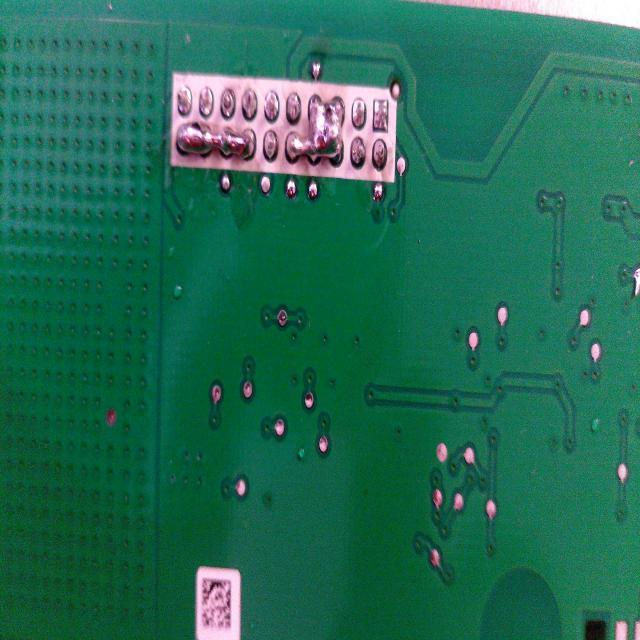Soldering shorted: (284, 88, 349, 182), (169, 121, 257, 173)
